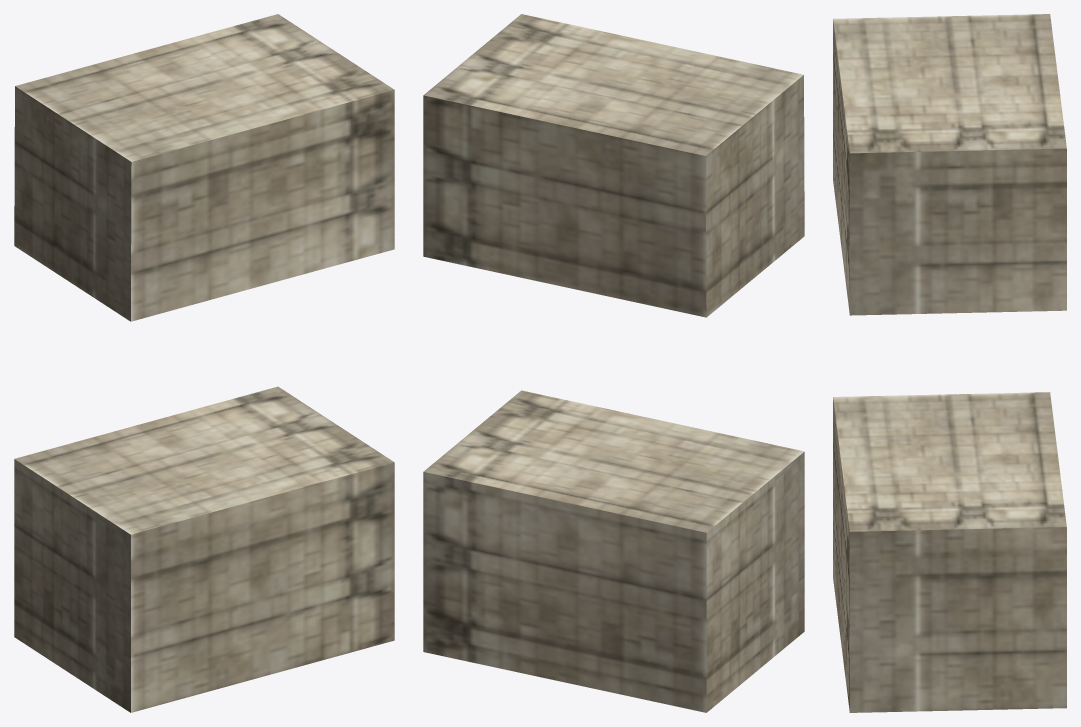
The model's file is walls_and_columns_7.fbx.
3 views of the same model, side by side, from view 1: azimuth 30°, elevation 25°; view 2: azimuth 150°, elevation 25°; view 3: azimuth 270°, elevation 25° (orthographic).
Visible parts, largest first — view 1: walls_and_columns_7; view 2: walls_and_columns_7; view 3: walls_and_columns_7.
Boxes of the visible parts, x1,y1,x2,y2 form: walls_and_columns_7: [14, 14, 394, 712]; walls_and_columns_7: [423, 14, 804, 712]; walls_and_columns_7: [833, 14, 1066, 712].
Bounding box in the file's own units: 388 × 724 × 274.
